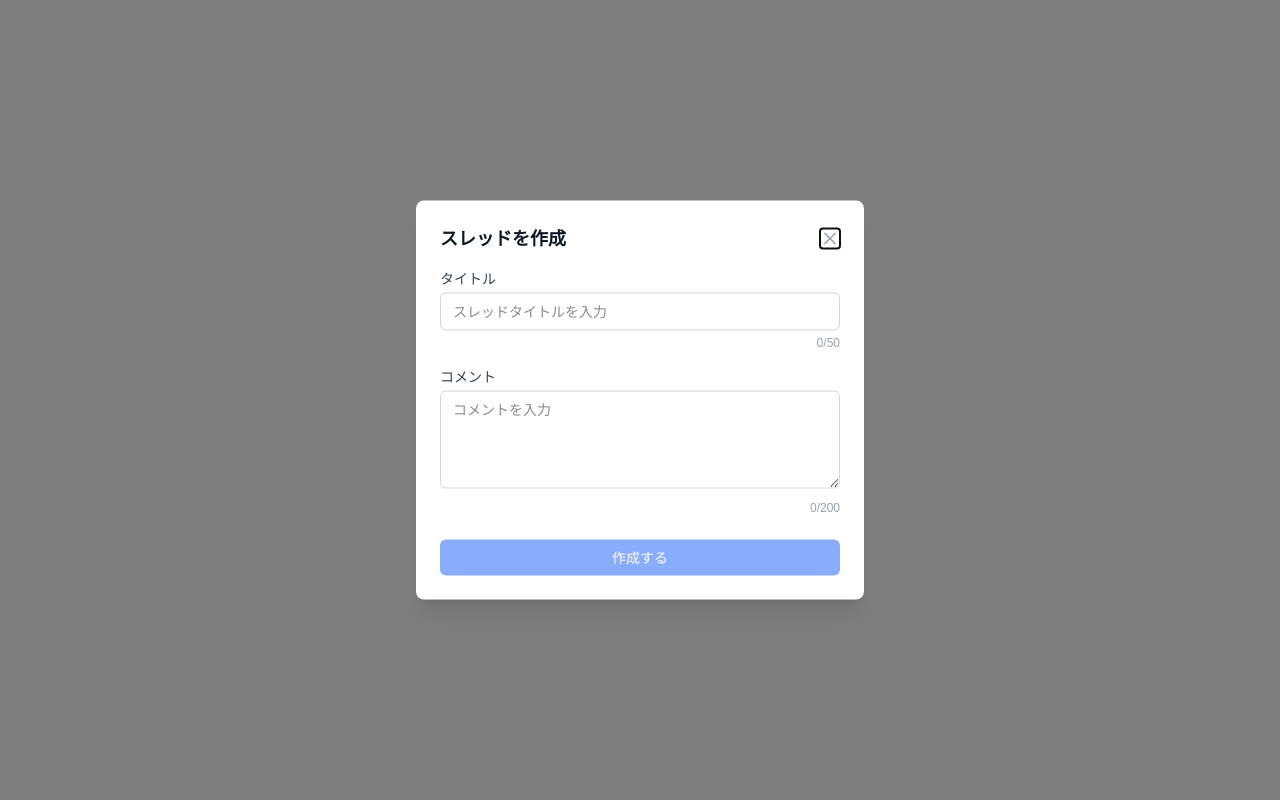
CreateThreadModal › タイトル文字数カウントが正しく表示されること
Expected: the text with test id "thread-title-count" reads "0/50", [817,334,840,350]
Type "テスト入力" into the field with test id "thread-title-input" at x=640, y=312, box [440,292,840,330]
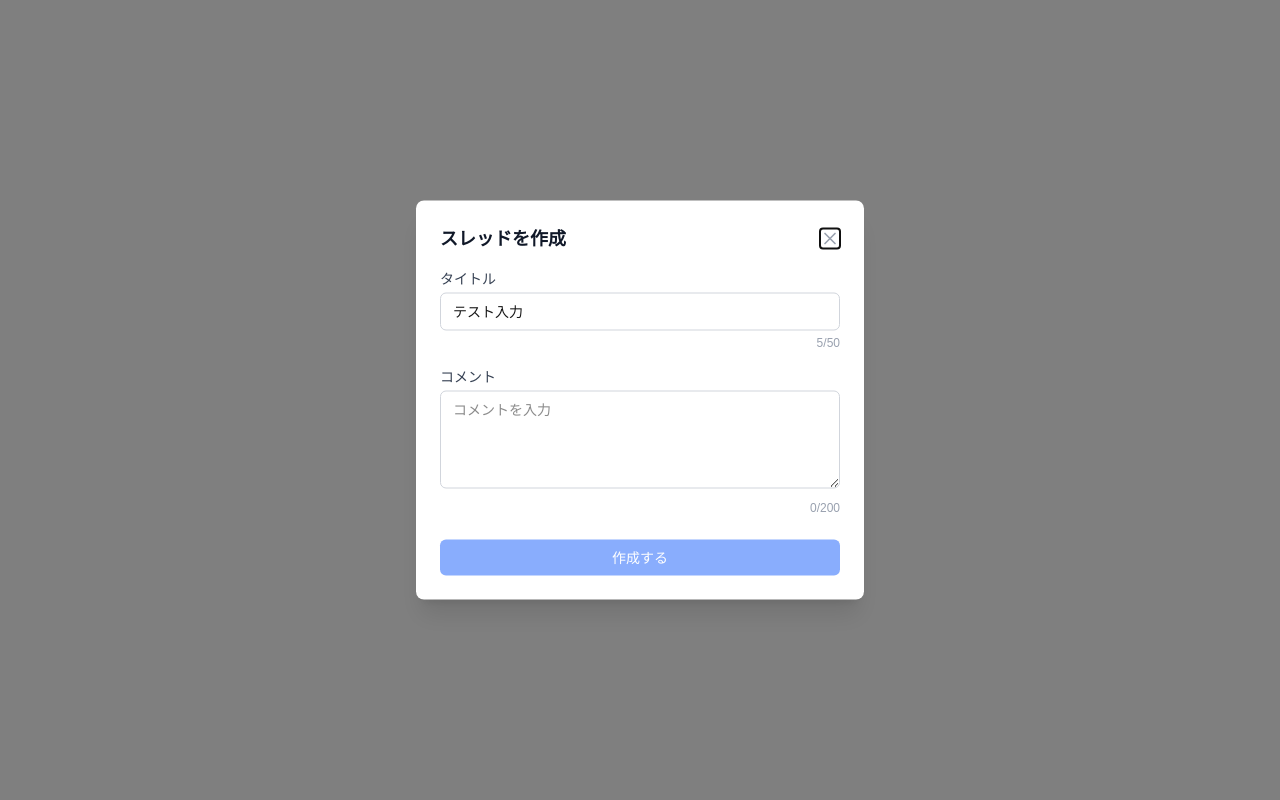
Now the text with test id "thread-title-count" reads "5/50", box [817,334,840,350]
